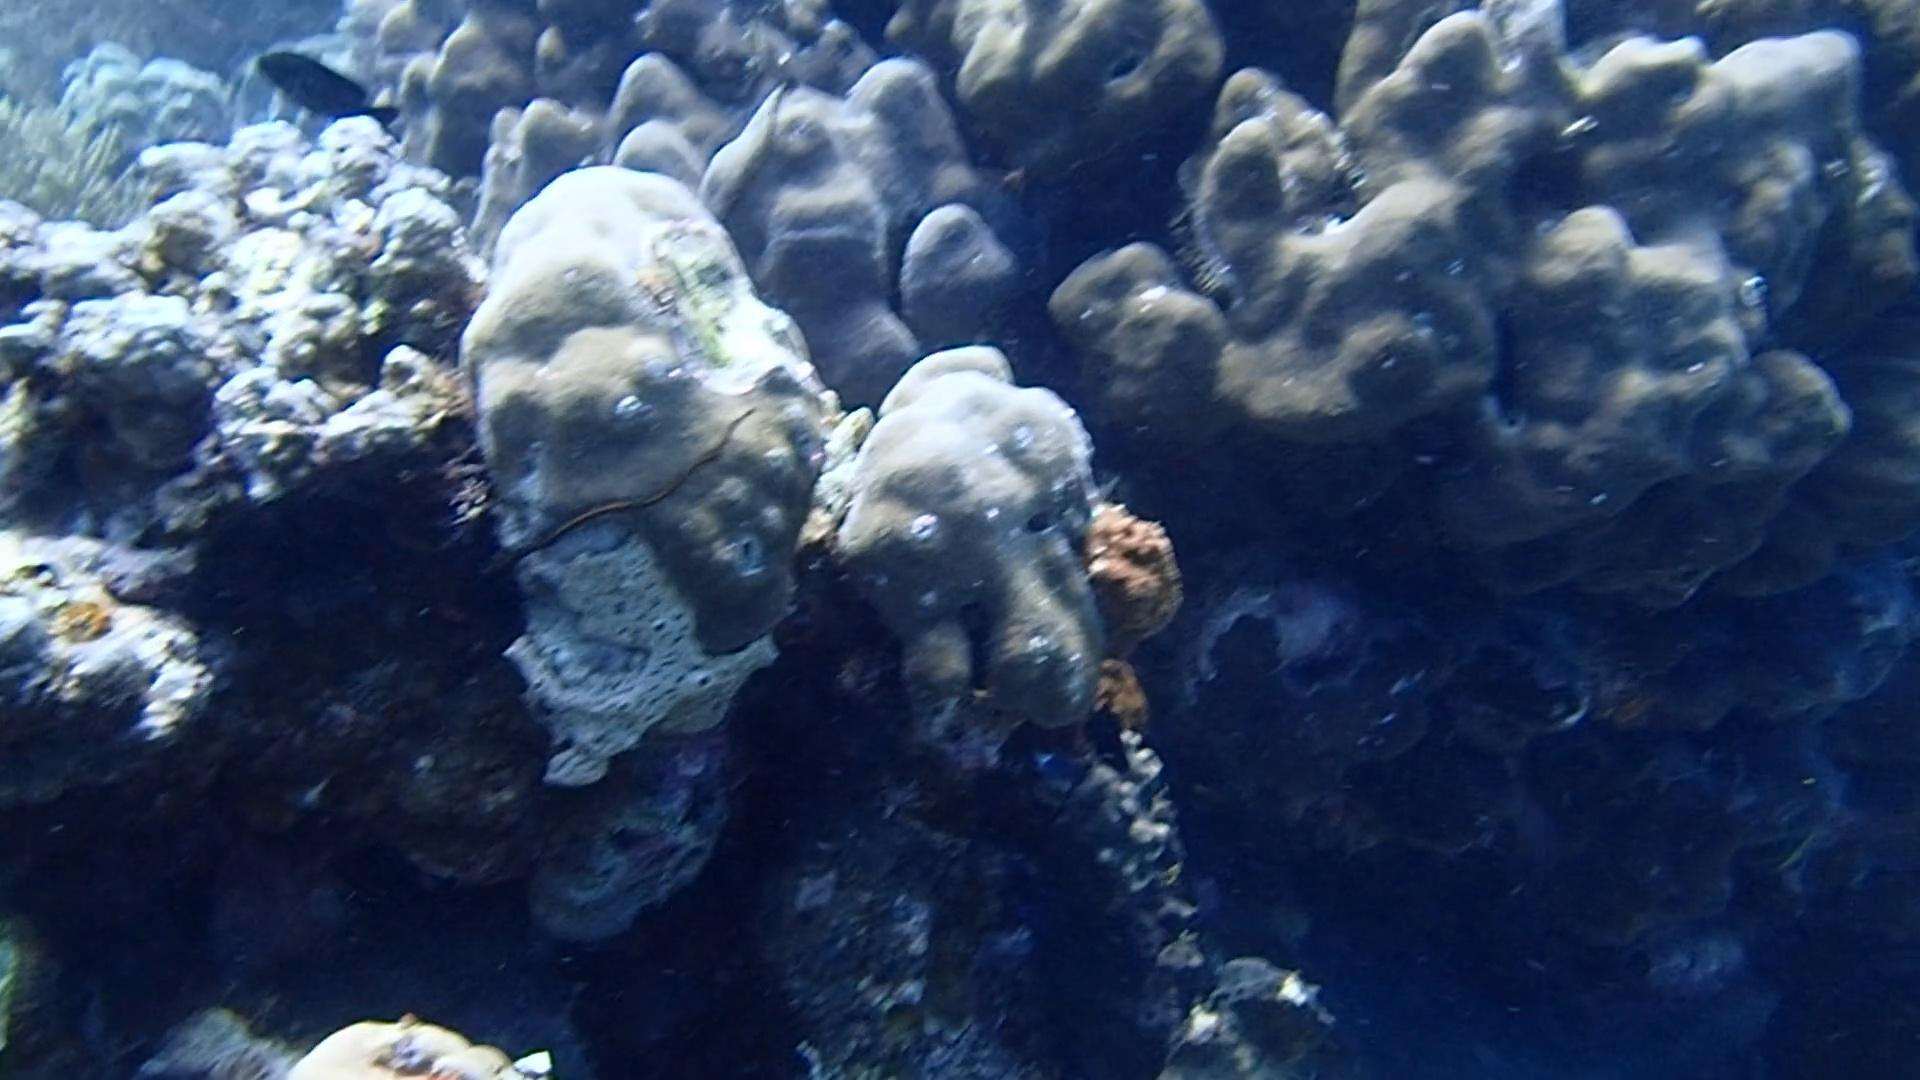Dark Fish: (249, 42, 418, 150), (1075, 691, 1146, 783)
